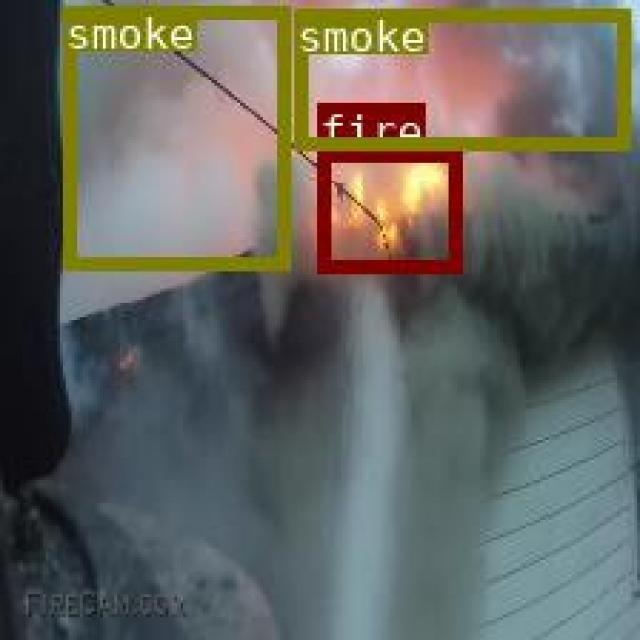fire: (314, 147, 460, 270)
smoke: (63, 4, 286, 267), (293, 8, 628, 146)
